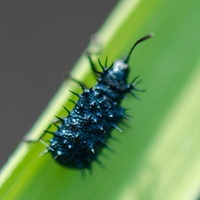insect: (38, 35, 152, 168)
